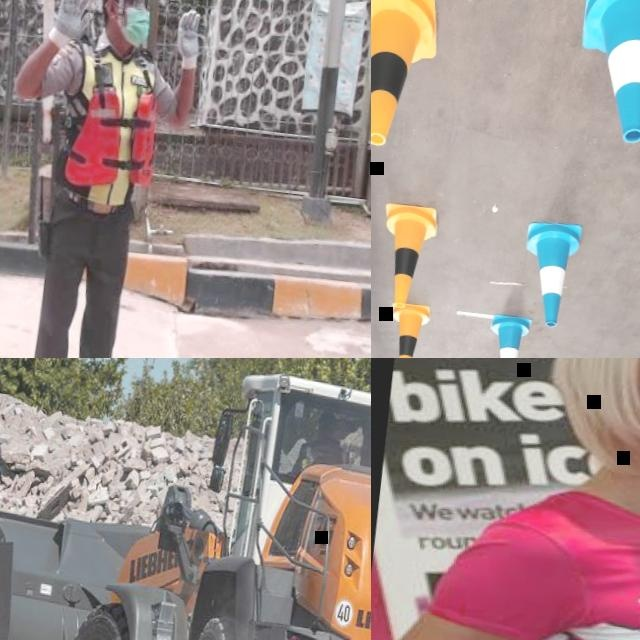Hardhat: (317, 411, 337, 429)
Mask: (102, 2, 149, 42)
NO-Safety Vest: (405, 467, 640, 640)
Person: (0, 0, 216, 358), (371, 358, 640, 640), (279, 408, 352, 489)
Safety Cone: (371, 0, 448, 156), (564, 0, 640, 148), (512, 218, 587, 329), (371, 200, 441, 316), (380, 299, 431, 358), (481, 313, 532, 358)
Safety Vest: (55, 42, 166, 205), (299, 439, 348, 477)
machinery: (0, 358, 371, 640)
